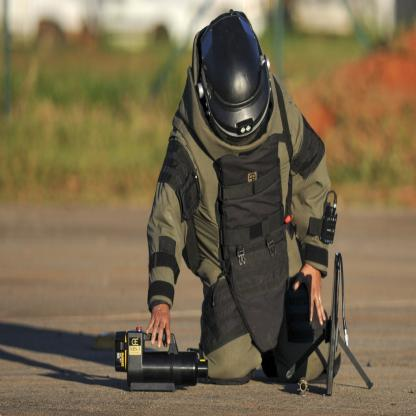Helmet: (192, 15, 280, 159)
